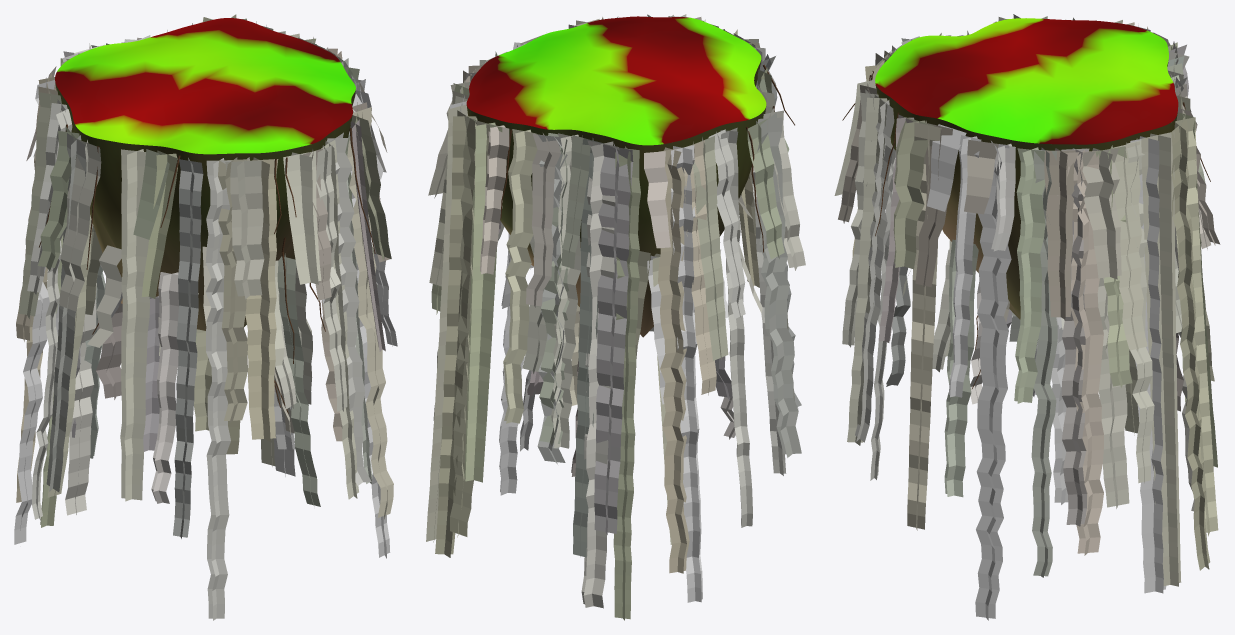
Rendered from SM_H09_Floater05.fbx.
3 views of the same model, side by side, from view 1: azimuth 30°, elevation 25°; view 2: azimuth 150°, elevation 25°; view 3: azimuth 270°, elevation 25° (orthographic). The views are drawn at different scales.
Parts seen in each view (by area): view 1: SM_H09_Floater05_Ivy, SM_H09_Floater05; view 2: SM_H09_Floater05_Ivy, SM_H09_Floater05; view 3: SM_H09_Floater05_Ivy, SM_H09_Floater05.
Boxes of the visible parts, x1,y1,x2,y2 form: SM_H09_Floater05_Ivy: [14, 14, 397, 620]; SM_H09_Floater05: [55, 18, 355, 330]; SM_H09_Floater05_Ivy: [426, 14, 805, 620]; SM_H09_Floater05: [466, 16, 766, 337]; SM_H09_Floater05_Ivy: [834, 14, 1220, 620]; SM_H09_Floater05: [875, 18, 1178, 319].
Size of the model in its own units: 22.43 by 31.24 by 22.61.
